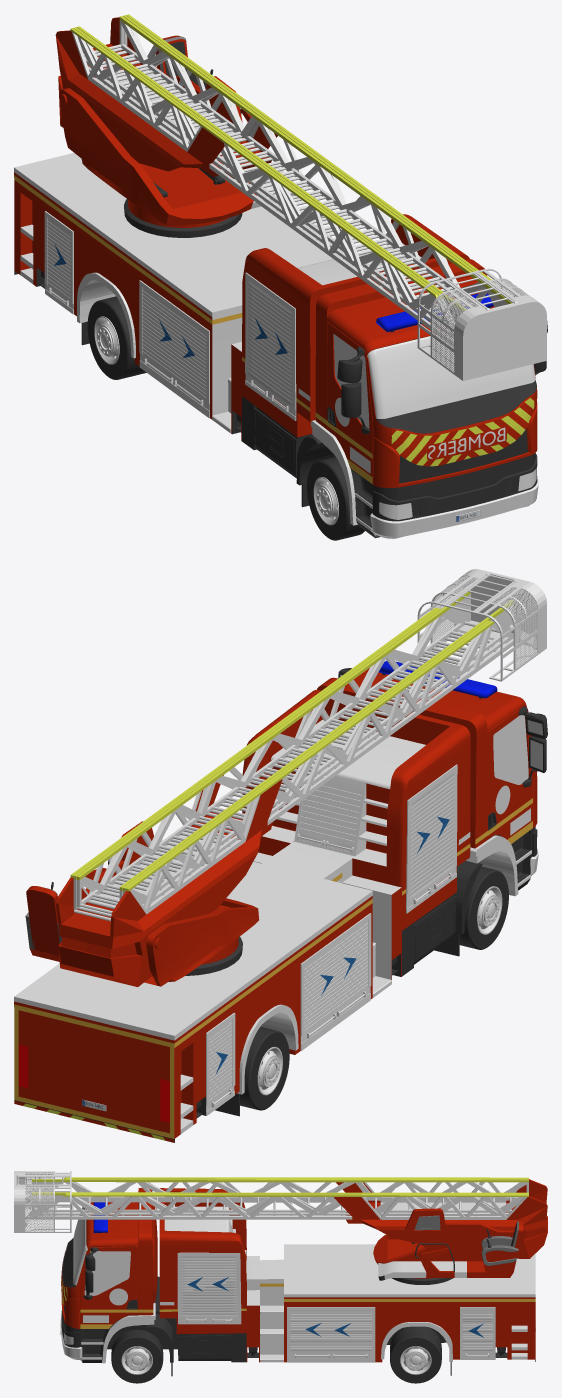
Rendered from escalera.fbx.
3 views of the same model, one above another, from view 1: azimuth 30°, elevation 25°; view 2: azimuth 150°, elevation 25°; view 3: azimuth 270°, elevation 25° (orthographic). The views are drawn at different scales.
Parts seen in each view (by area): view 1: trailer.001, cabina.001, escalera 1.001, escaleta 3.001, base rotatoria.002, escalera 2.001, cesta.001, cabina.002, rueda.det der.001, rueda.del der.001, rejilla cesta.001, retrovisor inf.001 (+1 smaller); view 2: trailer.001, escalera 1.001, escaleta 3.001, cabina.001, escalera 2.001, base rotatoria.002, cesta.001, rueda.det der.001, rueda.del der.001, rejilla cesta.001, int silla.001, LUZES.001; view 3: trailer.001, cabina.001, escalera 1.001, escaleta 3.001, base rotatoria.002, escalera 2.001, rueda.det izq.001, rueda.del izq.001, cesta.001, rejilla cesta.001, lateral silla.001, base rotatoria.003 (+1 smaller).
Part boxes in pixels (bbox=[...]): trailer.001: bbox=[14, 153, 469, 478]; cabina.001: bbox=[296, 259, 538, 538]; escalera 1.001: bbox=[55, 14, 494, 346]; escaleta 3.001: bbox=[77, 16, 512, 328]; base rotatoria.002: bbox=[59, 67, 295, 237]; escalera 2.001: bbox=[74, 15, 481, 338]; cesta.001: bbox=[417, 268, 546, 381]; cabina.002: bbox=[391, 394, 534, 466]; rueda.det der.001: bbox=[87, 296, 146, 379]; rueda.del der.001: bbox=[307, 457, 364, 540]; rejilla cesta.001: bbox=[432, 279, 529, 372]; retrovisor inf.001: bbox=[341, 361, 546, 417]; trailer.001: bbox=[14, 690, 470, 1142]; escalera 1.001: bbox=[55, 607, 518, 986]; escaleta 3.001: bbox=[77, 590, 513, 914]; cabina.001: bbox=[317, 668, 538, 956]; escalera 2.001: bbox=[73, 608, 511, 917]; base rotatoria.002: bbox=[30, 821, 259, 986]; cesta.001: bbox=[417, 569, 546, 681]; rueda.det der.001: bbox=[240, 1026, 289, 1110]; rueda.del der.001: bbox=[459, 866, 508, 949]; rejilla cesta.001: bbox=[433, 576, 537, 668]; int silla.001: bbox=[26, 886, 59, 955]; LUZES.001: bbox=[379, 660, 497, 698]; trailer.001: bbox=[159, 1188, 535, 1375]; cabina.001: bbox=[60, 1188, 177, 1376]; escalera 1.001: bbox=[34, 1177, 547, 1258]; escaleta 3.001: bbox=[32, 1179, 528, 1215]; base rotatoria.002: bbox=[373, 1208, 514, 1284]; escalera 2.001: bbox=[37, 1178, 528, 1215]; rueda.det izq.001: bbox=[390, 1326, 441, 1383]; rueda.del izq.001: bbox=[111, 1329, 163, 1383]; cesta.001: bbox=[14, 1171, 71, 1232]; rejilla cesta.001: bbox=[25, 1171, 53, 1231]; lateral silla.001: bbox=[481, 1236, 518, 1272]; base rotatoria.003: bbox=[414, 1215, 440, 1230].
Bounding box in the file's own units: 318 × 413 × 1116.
